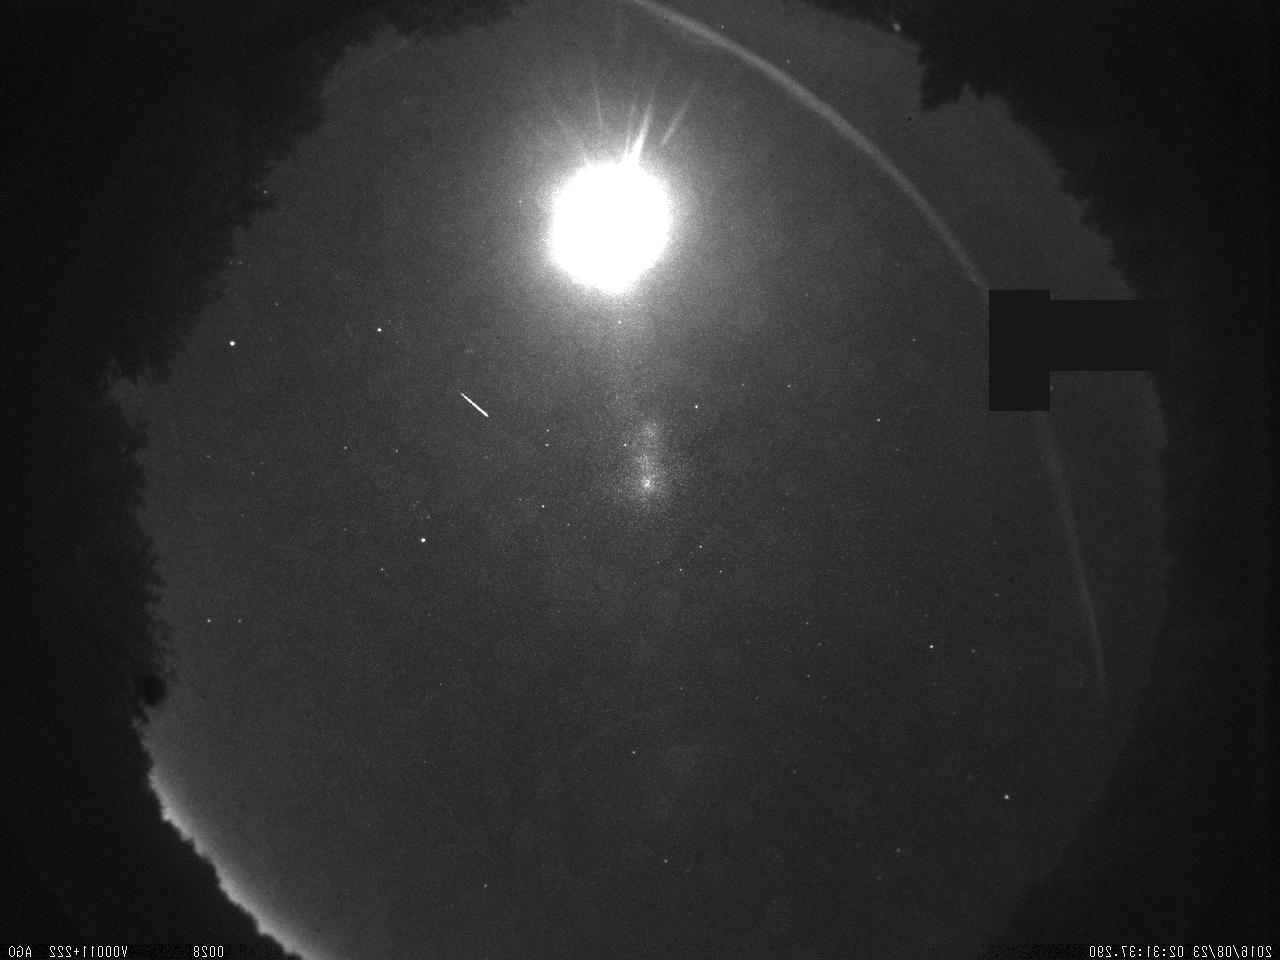meteor: (453, 385, 494, 425)
